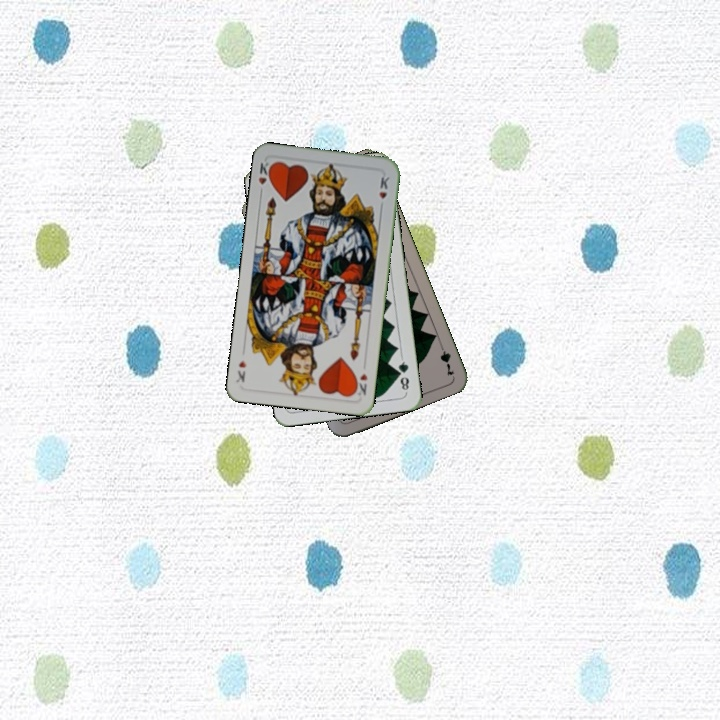G7: (435, 338, 457, 378)
G8: (394, 354, 412, 395)
HK: (254, 157, 275, 198), (350, 369, 370, 398)
